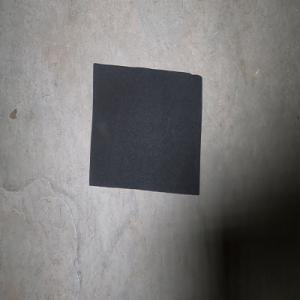PaintChip: (89, 63, 202, 195)
